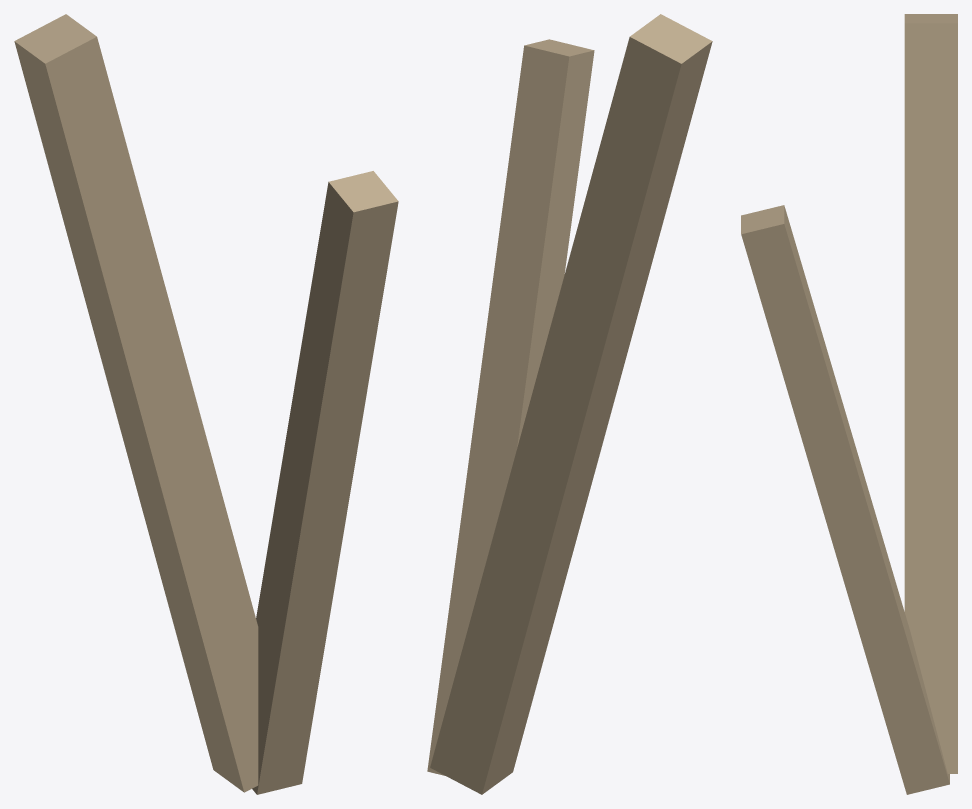
Rendered from dried grass 1.fbx.
3 views of the same model, side by side, from view 1: azimuth 30°, elevation 25°; view 2: azimuth 150°, elevation 25°; view 3: azimuth 270°, elevation 25° (orthographic). The views are drawn at different scales.
Parts seen in each view (by area): view 1: dried_grass_2; view 2: dried_grass_2; view 3: dried_grass_2.
Boxes of the visible parts, <box> form: dried_grass_2: <box>14,14,398,794</box>; dried_grass_2: <box>427,14,712,794</box>; dried_grass_2: <box>741,14,957,794</box>.
Bounding box in the file's own units: 1.3 × 3.84 × 1.1.
